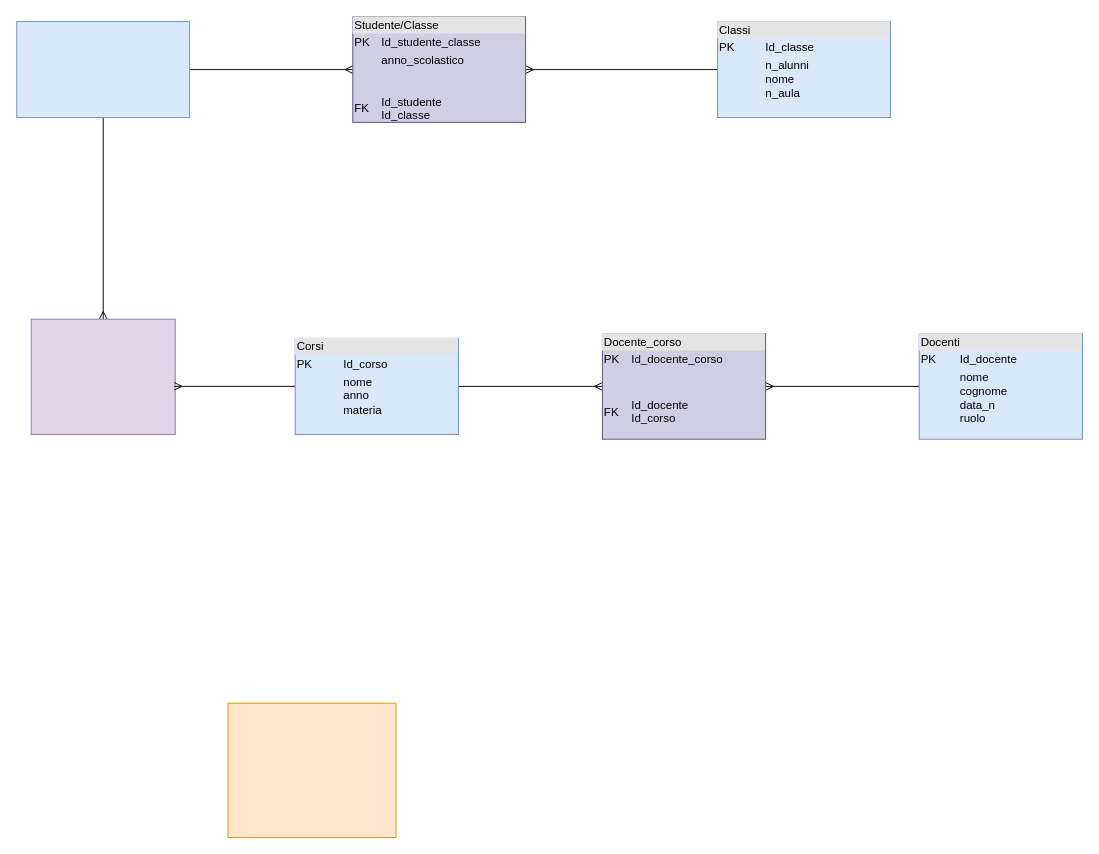
Image size: 1099x854. Some labels were removed from this diagram. The shapes that lost their labels are listed below. From the top down, each one's centre as x and y in pixels, then its label:
the point at 103,69: Studenti PK Id_studente nome_studente cognome_studente codice_fiscale data_n
the point at 102,376: Studente_corso PK Id_studente_corso FK voto anno Id_studente Id_corso
the point at 311,770: Corsi PK Id_corso materia descrizione
